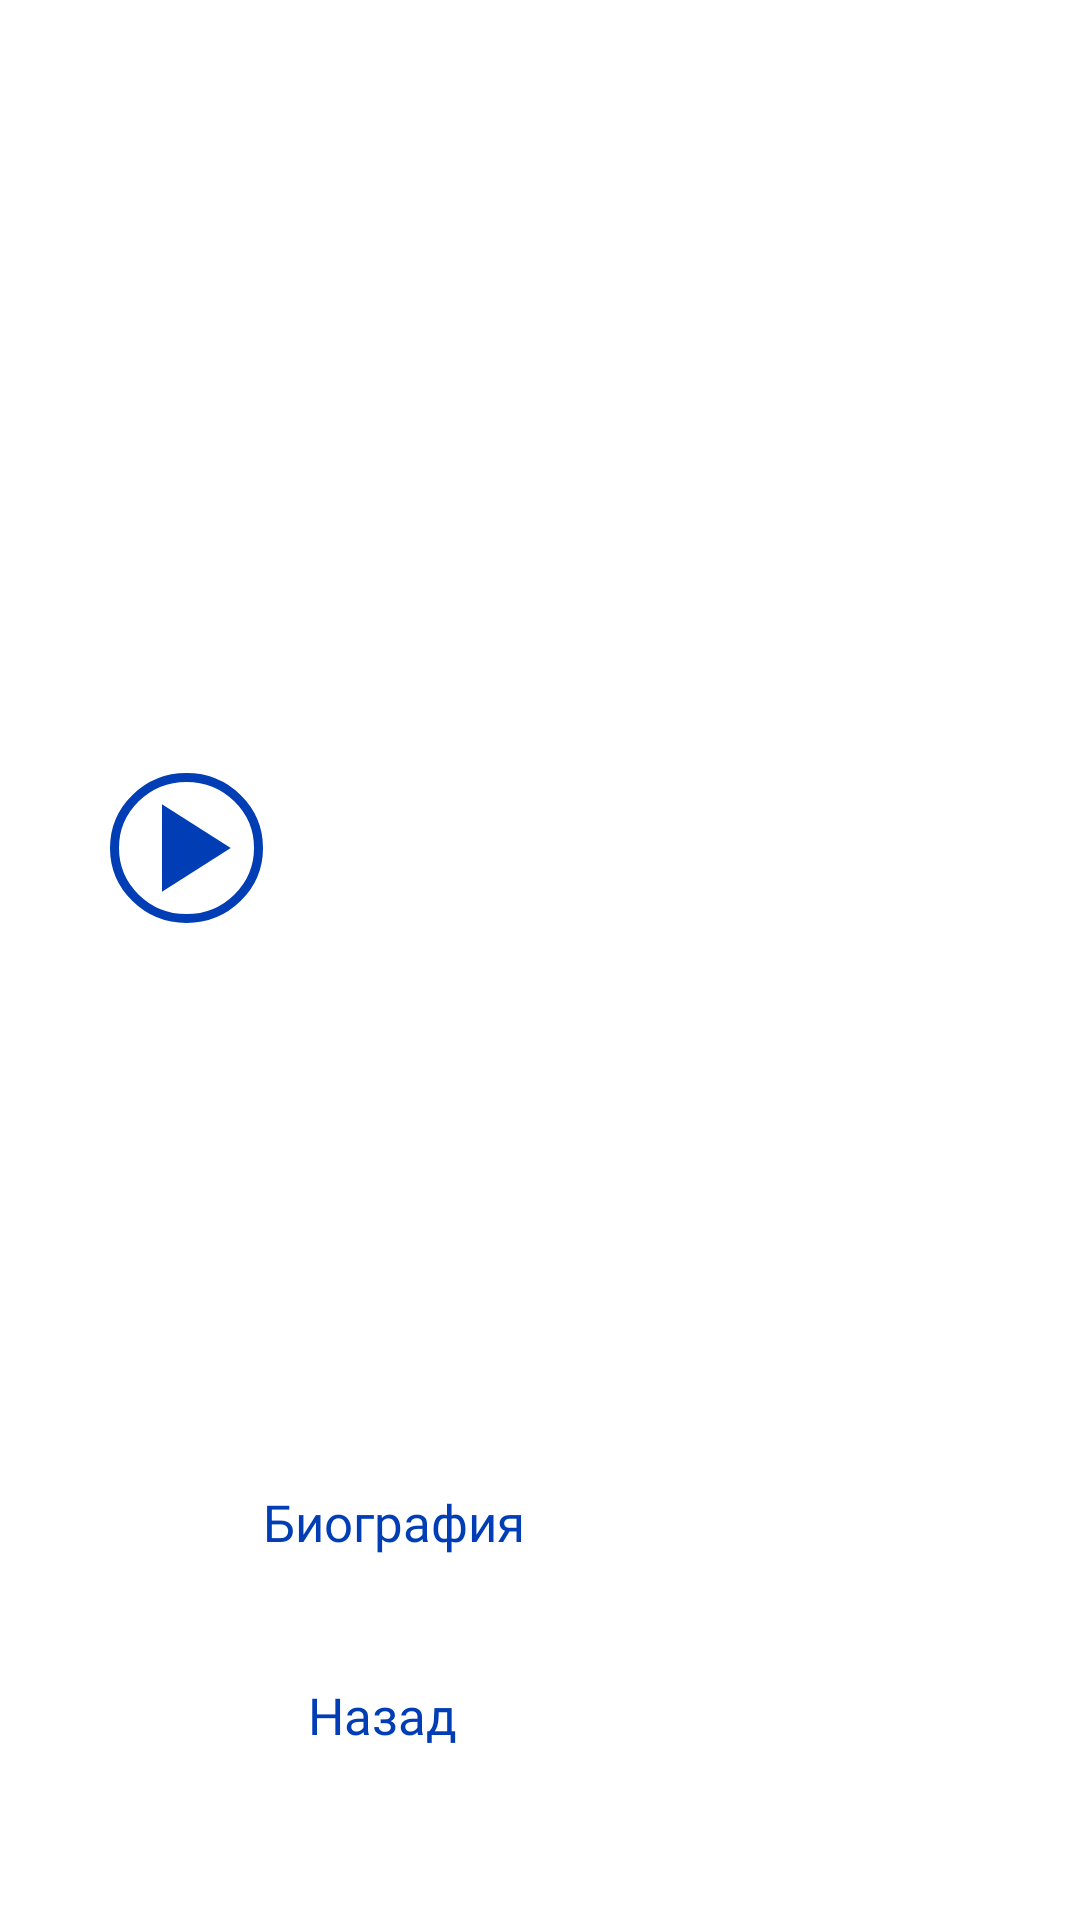

Where to tap for icons on this 1080*1920 app screen, as point (x, y):
play arrow: point (186, 848)
